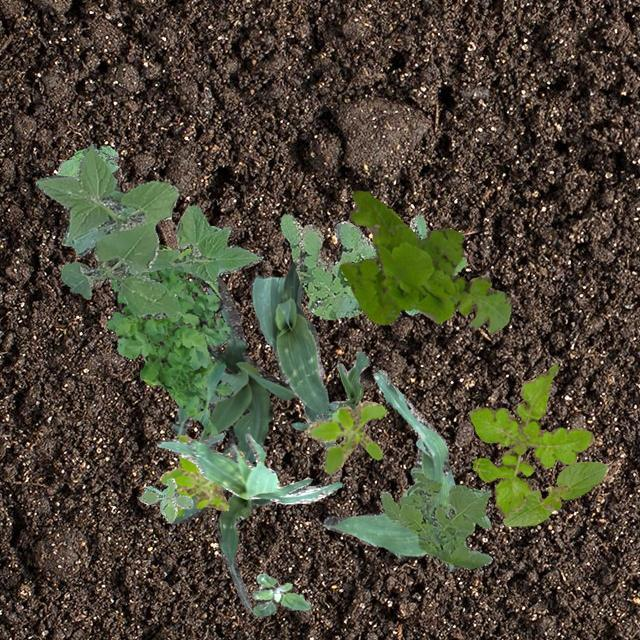crop: (172, 276, 294, 522), (322, 368, 458, 570), (250, 260, 334, 450), (216, 482, 324, 608), (156, 432, 342, 502), (144, 205, 262, 282), (502, 460, 606, 526), (290, 350, 370, 430)
weed: (105, 224, 232, 436), (34, 142, 180, 318), (338, 190, 511, 334), (278, 212, 466, 318), (468, 364, 592, 516), (379, 467, 492, 568), (158, 434, 244, 516), (304, 401, 386, 474), (252, 572, 310, 616), (138, 477, 192, 522), (54, 144, 118, 177)
